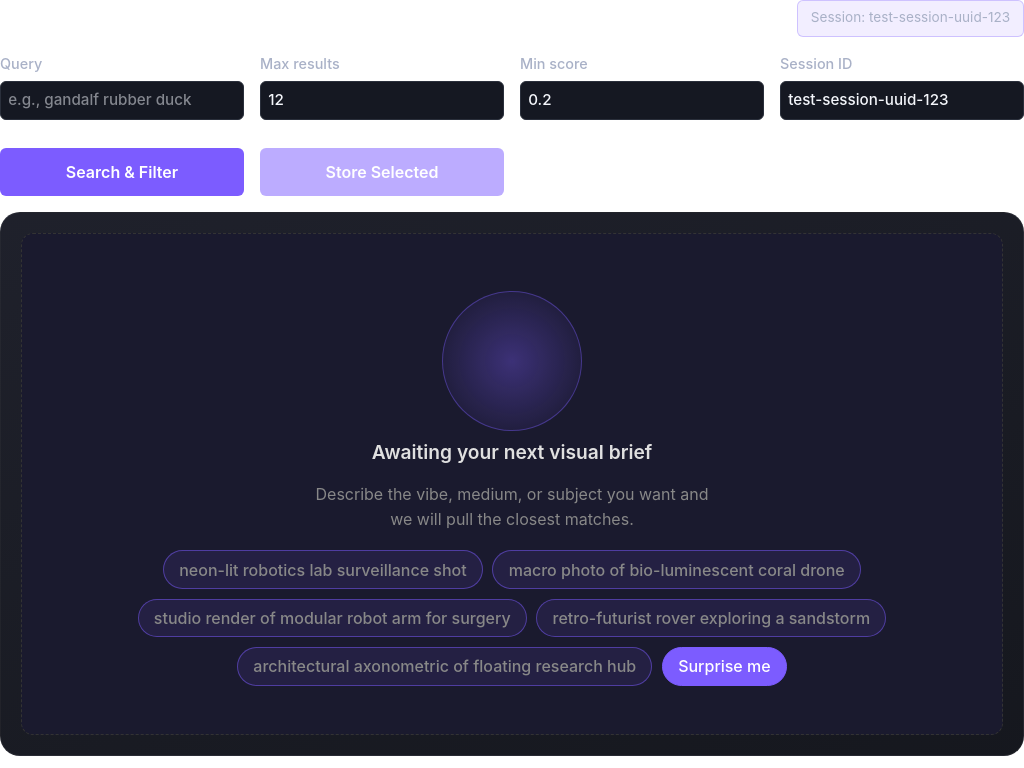
Scenario: Gallery Tab › Search Workflow › shows no results message
Type "test search" into the field with placeholder "e.g., gandalf rubber duck" at point(122, 100), box [0,80,244,120]
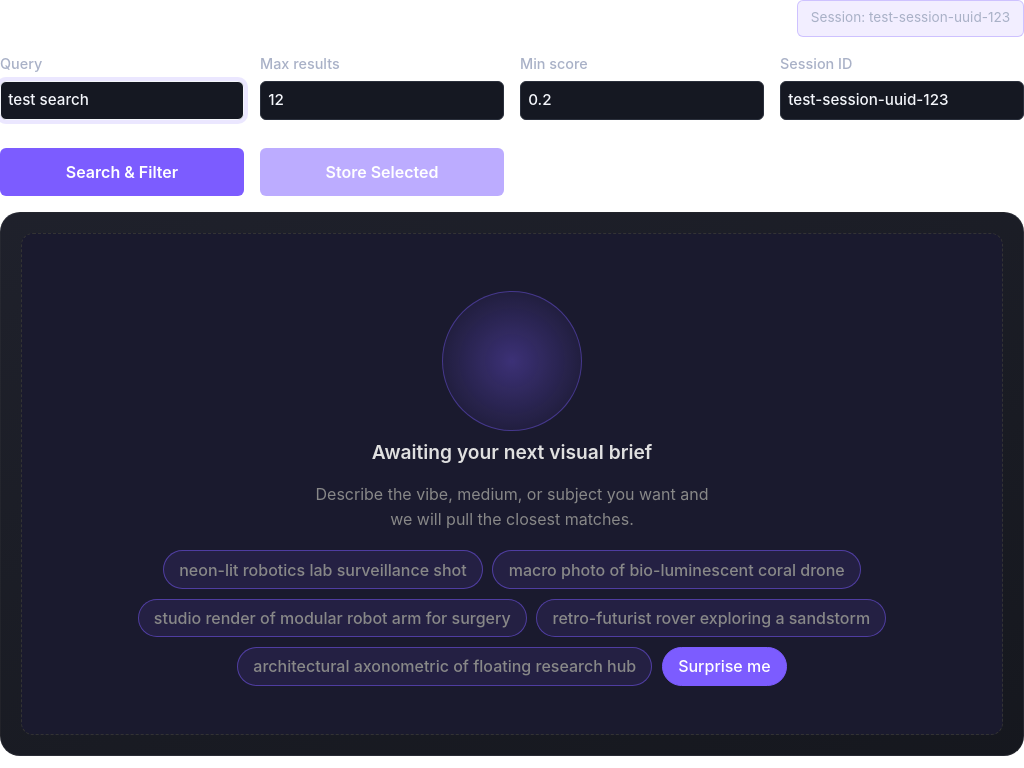
Click the button "Search & Filter" at point(122, 172), box [0,148,244,196]
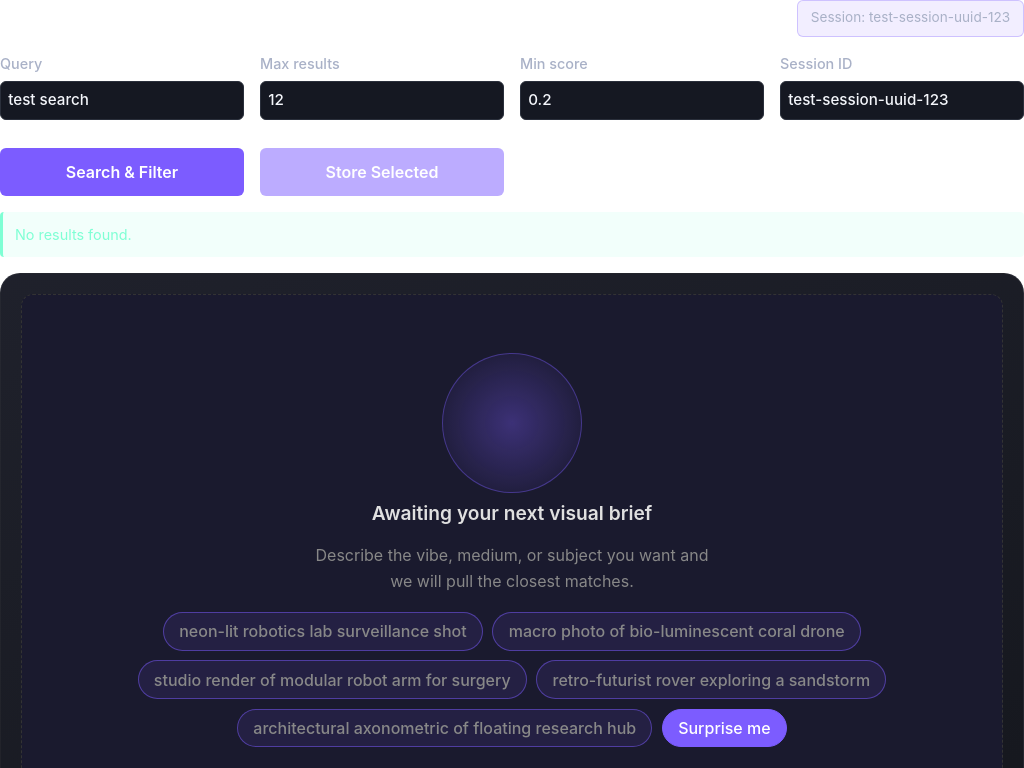
Expected: the text "No results found." is shown, [0,212,1023,257]
